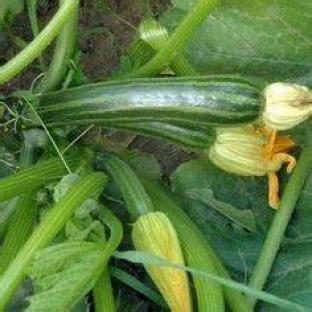Zucchini: (39, 76, 263, 126), (114, 122, 215, 150)
